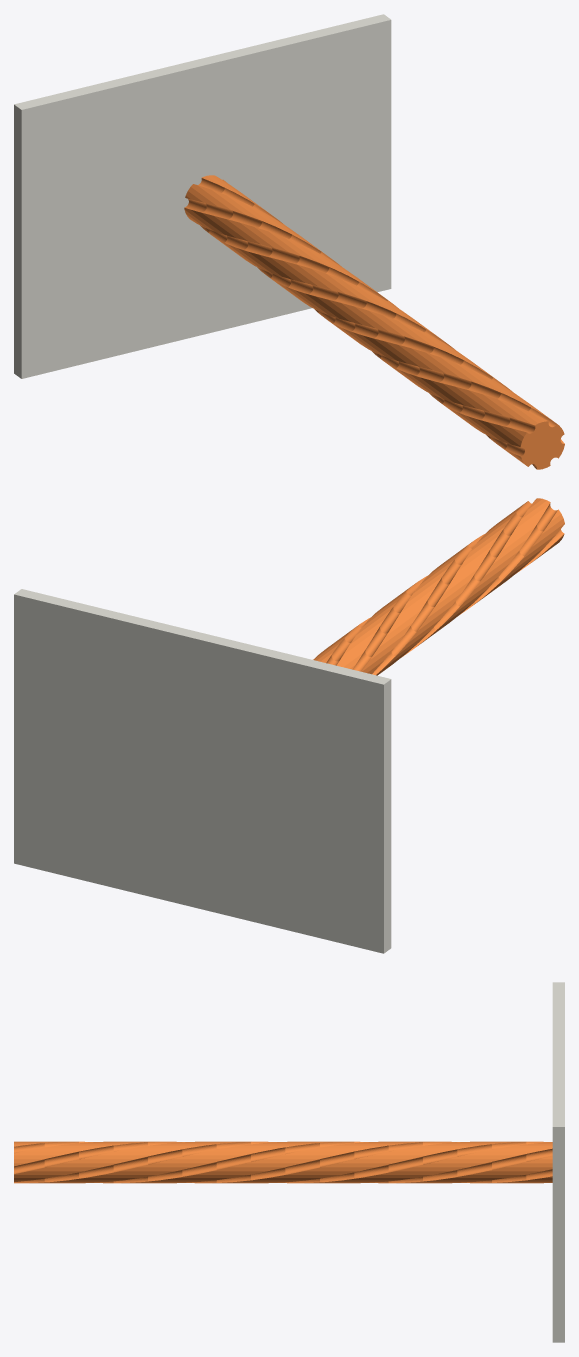
The model's file is Rotator_exp.glb.
3 views of the same model, one above another, from view 1: azimuth 30°, elevation 25°; view 2: azimuth 150°, elevation 25°; view 3: azimuth 270°, elevation 25° (orthographic). The views are drawn at different scales.
Parts seen in each view (by area): view 1: Rotator; view 2: Rotator; view 3: Rotator.
Part boxes in pixels (box(x1,y1,x2,y2)): Rotator: box(14, 14, 564, 469); Rotator: box(14, 498, 564, 953); Rotator: box(14, 982, 564, 1342).
Bounding box in the file's own units: 2.63 × 1.83 × 4.23.
